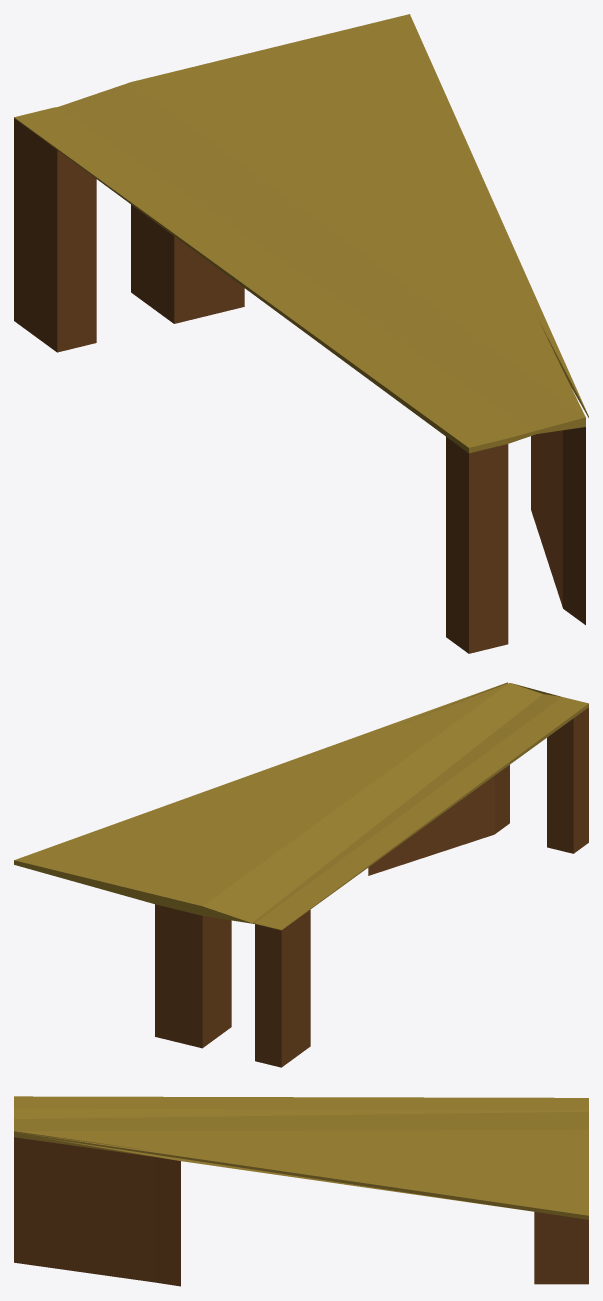
The model's file is desk.fbx.
The picture shows the model from 3 angles, top to bottom: view 1: azimuth 30°, elevation 25°; view 2: azimuth 150°, elevation 25°; view 3: azimuth 270°, elevation 25°; orthographic projection. The views are drawn at different scales.
Visible parts, largest first — view 1: Cube; view 2: Cube; view 3: Cube.
Boxes of the visible parts, x1,y1,x2,y2 form: Cube: (14,14,588,653); Cube: (14,682,588,1067); Cube: (14,1096,588,1286).
Size of the model in its own units: 1246 by 633 by 2480.
